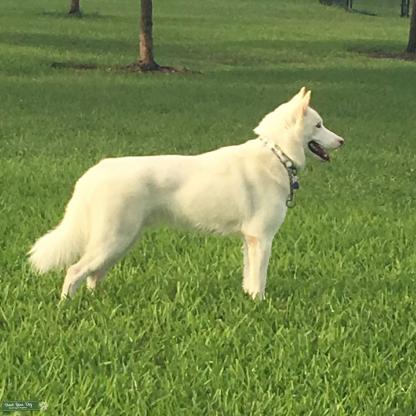husky: (25, 85, 348, 302)
